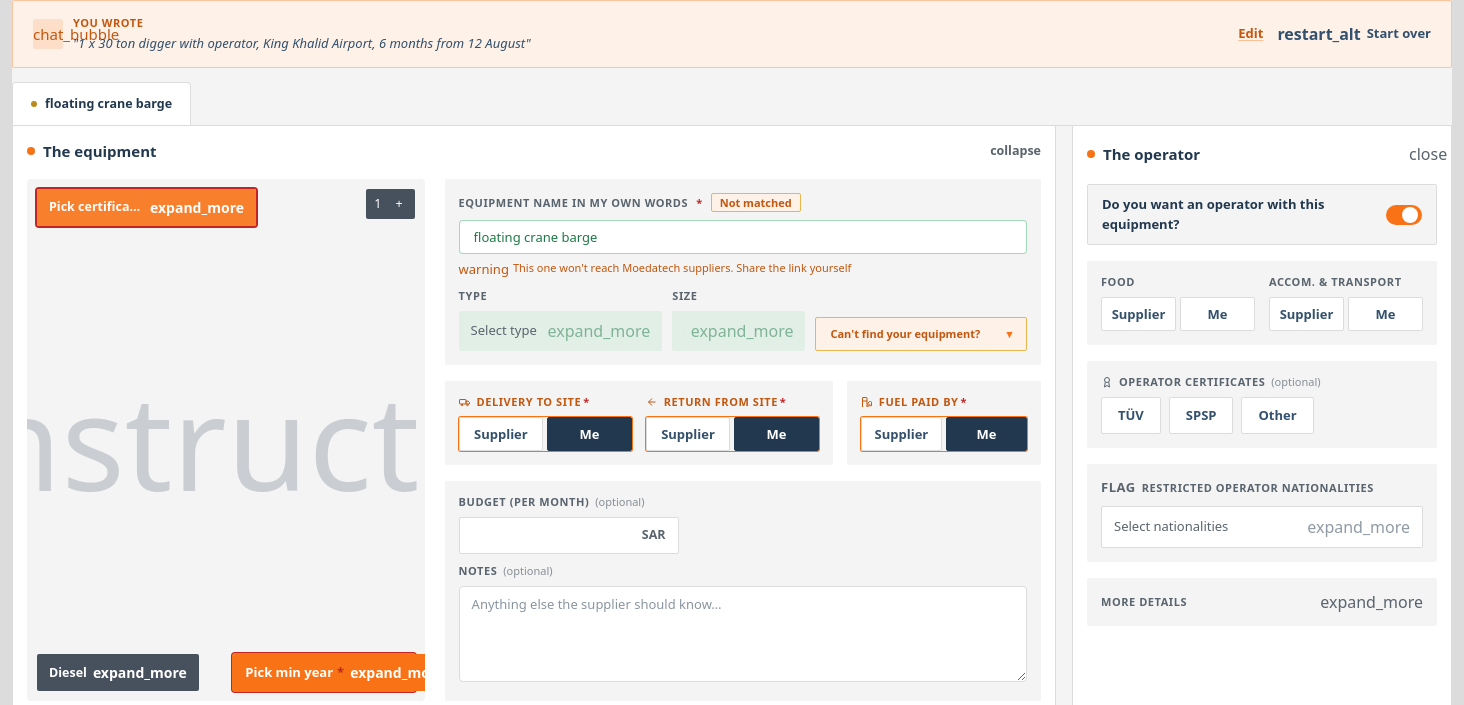
it: the escape, and the panel behind it › stays on screen while its own panel is open
The width and height of the screenshot is (1464, 705).
Click the button "Can't find your equipment? ▾". click: click(921, 334)
box: [816,317,1027,351]
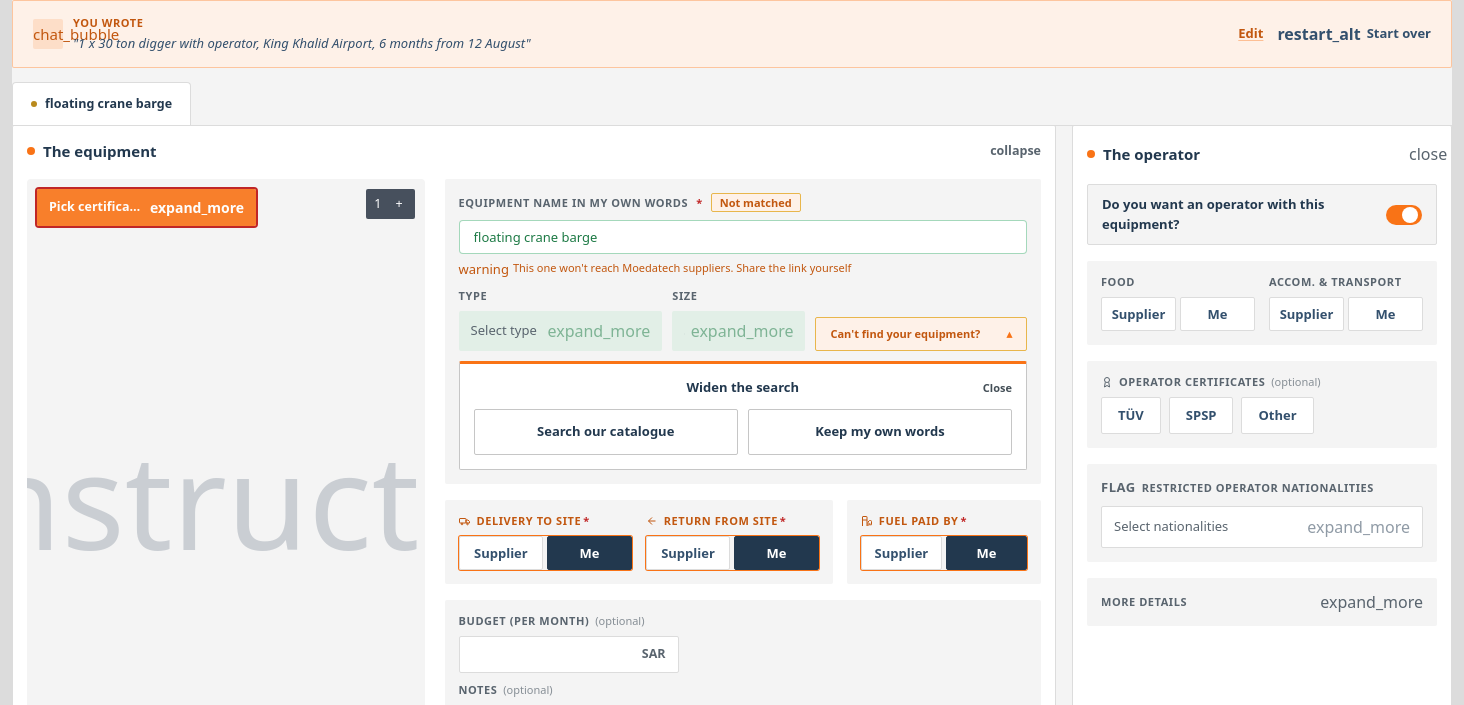
expect the text "Widen the search" is shown: met, box [686,378,799,397]
expect the button "Search our catalogue" is shown: met, box [474,409,738,455]
expect the button "Keep my own words" is shown: met, box [748,409,1012,455]
